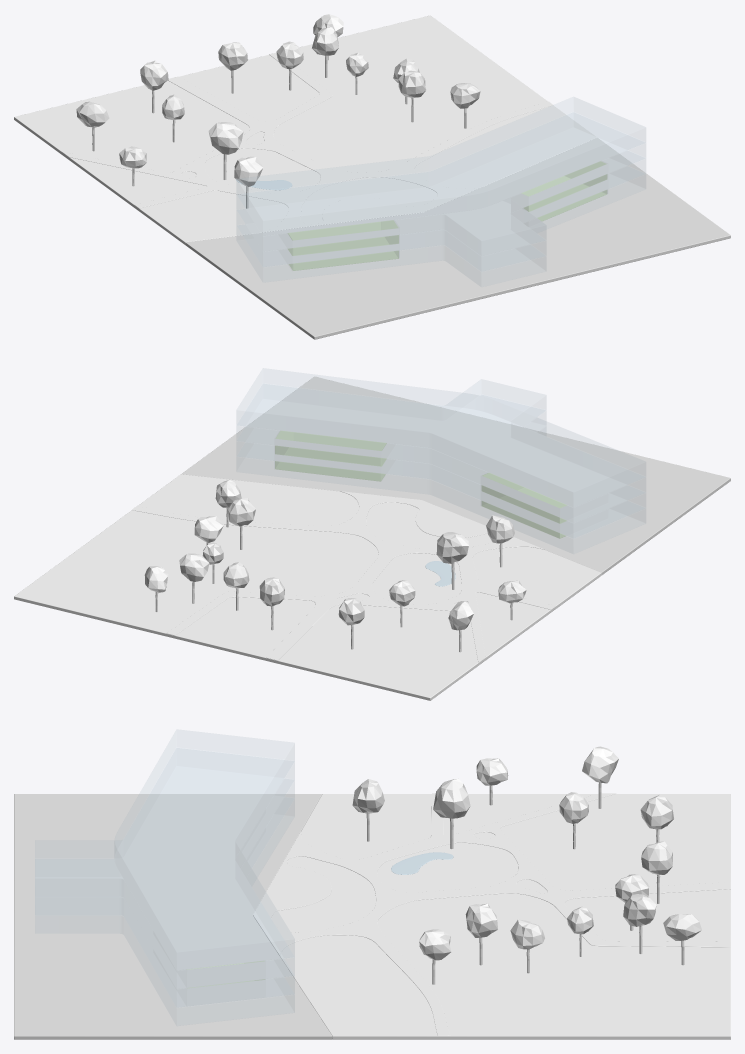
File: campus.gltf
3 views of the same model, one above another, from view 1: azimuth 30°, elevation 25°; view 2: azimuth 150°, elevation 25°; view 3: azimuth 270°, elevation 25° (orthographic). The views are drawn at different scales.
Parts seen in each view (by area): view 1: park, building_base, floor_2, floor_3, floor_1, floor_0_v2, paths_Retopo, room2, room1, tree010, tree013, tree012 (+8 smaller); view 2: park, building_base, floor_2, floor_3, floor_1, floor_0_v2, paths_Retopo, room1, room2, tree010, tree01, tree013 (+10 smaller); view 3: park, building_base, floor_2, floor_3, paths_Retopo, floor_1, floor_0_v2, tree010, tree012, tree005, tree01, tree007 (+10 smaller).
Part boxes in pixels (left/top/right/bottom): park: left=14, top=15, right=596, bottom=244; building_base: left=185, top=138, right=730, bottom=339; floor_2: left=237, top=113, right=645, bottom=255; floor_3: left=237, top=97, right=645, bottom=235; floor_1: left=237, top=151, right=645, bottom=270; floor_0_v2: left=237, top=166, right=645, bottom=286; paths_Retopo: left=62, top=52, right=552, bottom=232; room2: left=288, top=220, right=398, bottom=270; room1: left=521, top=161, right=606, bottom=221; tree010: left=208, top=122, right=243, bottom=179; tree013: left=234, top=156, right=263, bottom=208; tree012: left=76, top=101, right=109, bottom=151; park: left=14, top=474, right=601, bottom=700; building_base: left=181, top=376, right=730, bottom=574; floor_2: left=237, top=379, right=645, bottom=522; floor_3: left=237, top=368, right=645, bottom=506; floor_1: left=237, top=395, right=645, bottom=537; floor_0_v2: left=237, top=427, right=645, bottom=553; paths_Retopo: left=132, top=491, right=555, bottom=662; room1: left=275, top=431, right=386, bottom=481; room2: left=482, top=473, right=566, bottom=538; tree010: left=436, top=532, right=468, bottom=589; tree01: left=179, top=553, right=209, bottom=603; tree013: left=486, top=515, right=514, bottom=567; park: left=271, top=794, right=730, bottom=1039; building_base: left=14, top=794, right=332, bottom=1039; floor_2: left=35, top=748, right=294, bottom=988; floor_3: left=115, top=730, right=294, bottom=969; paths_Retopo: left=253, top=793, right=730, bottom=1035; floor_1: left=35, top=779, right=294, bottom=1006; floor_0_v2: left=35, top=798, right=294, bottom=1025; tree010: left=433, top=778, right=470, bottom=849; tree012: left=582, top=746, right=618, bottom=808; tree005: left=465, top=903, right=497, bottom=965; tree01: left=623, top=894, right=656, bottom=953; tree007: left=641, top=841, right=672, bottom=903.
Size of the model in its own units: 2.8 by 0.42 by 3.5.
Materials: 6 (2 with a texture image).
